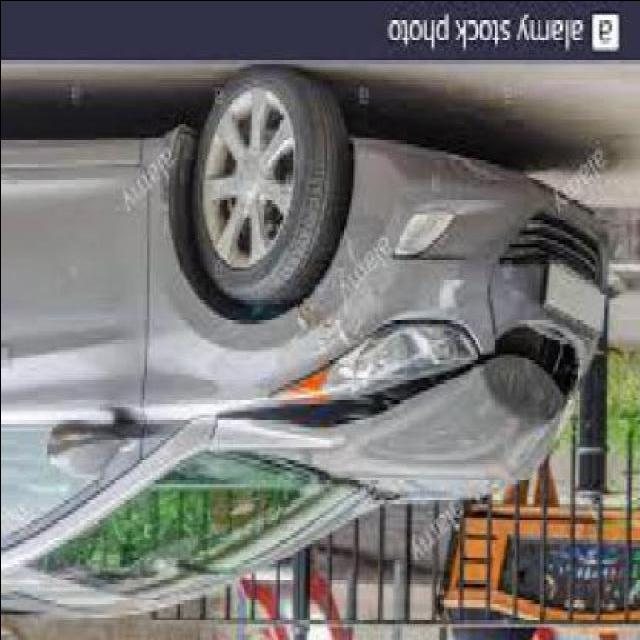bonnet-dent: (218, 330, 591, 494)
fender-dent: (141, 130, 294, 406)
front-bumper-dent: (332, 122, 551, 326)
